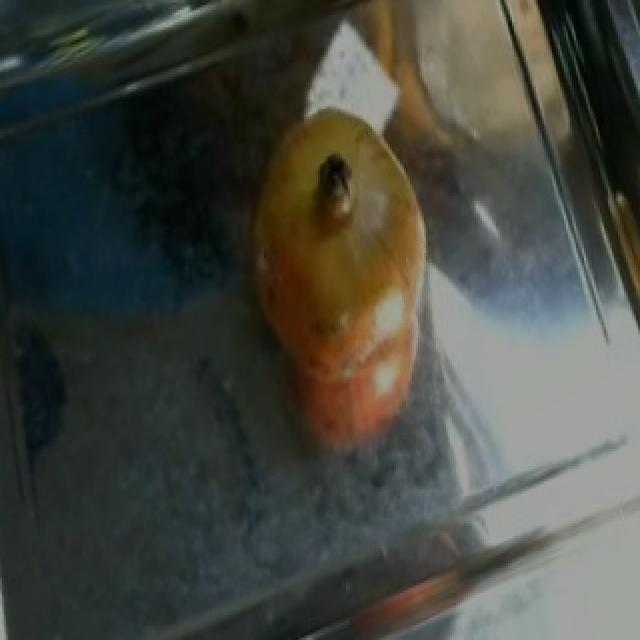fruit: (228, 79, 460, 377)
